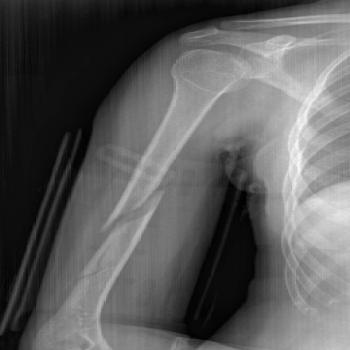Fracture: (93, 185, 171, 236), (76, 243, 127, 280)
